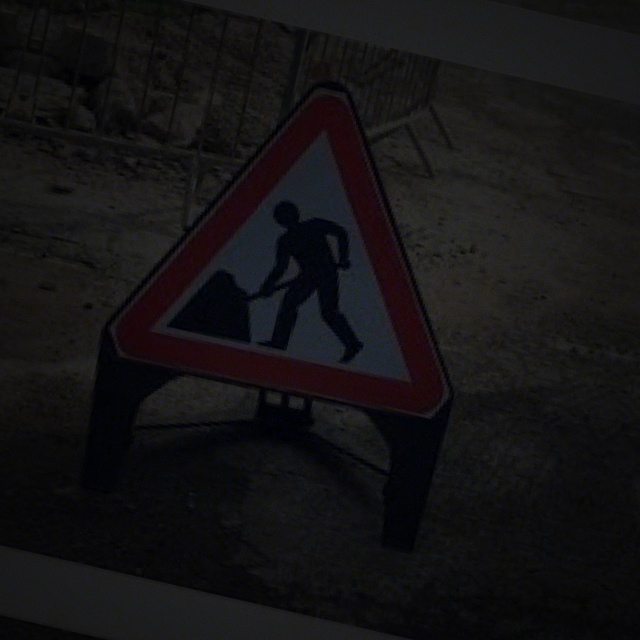Men_at_Work: (98, 41, 515, 425)
